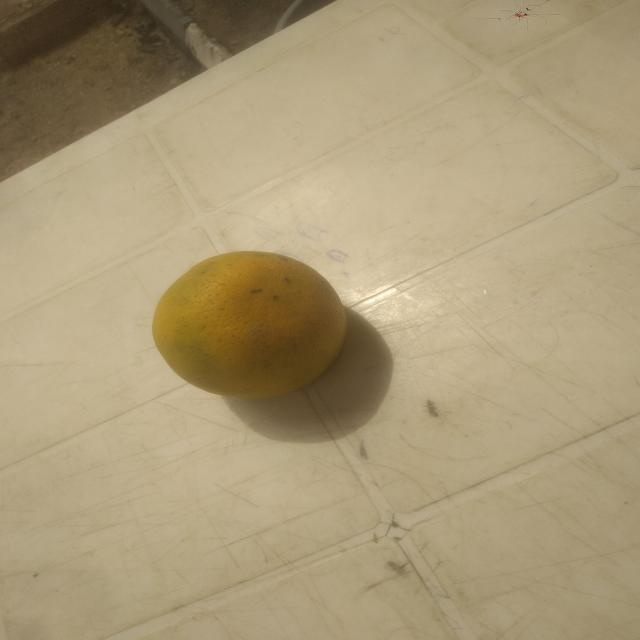agrume: (146, 247, 359, 401)
